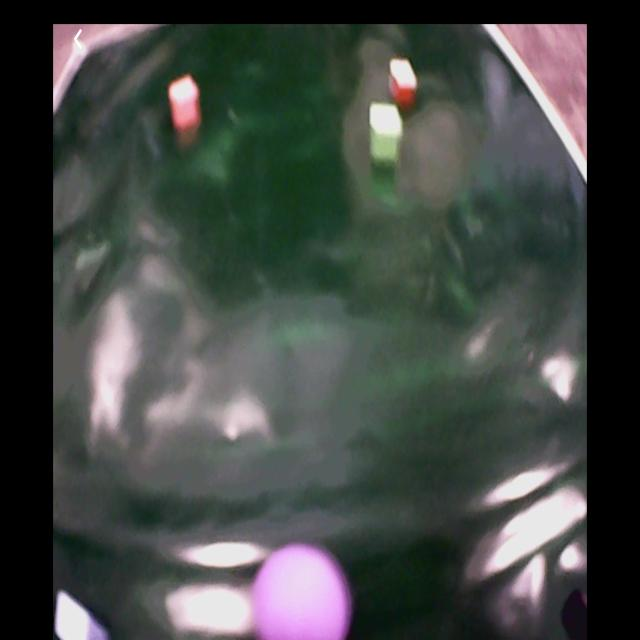ball: (253, 544, 351, 640)
